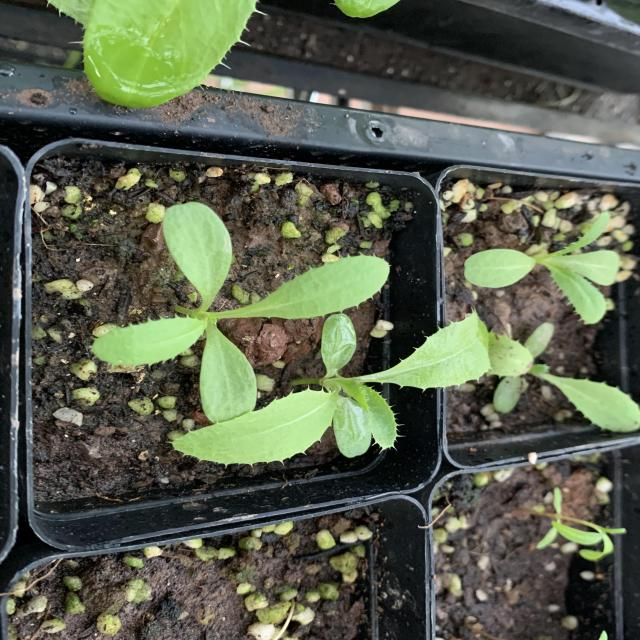field_thistle: (215, 251, 436, 561), (309, 145, 474, 459), (205, 0, 313, 181)
